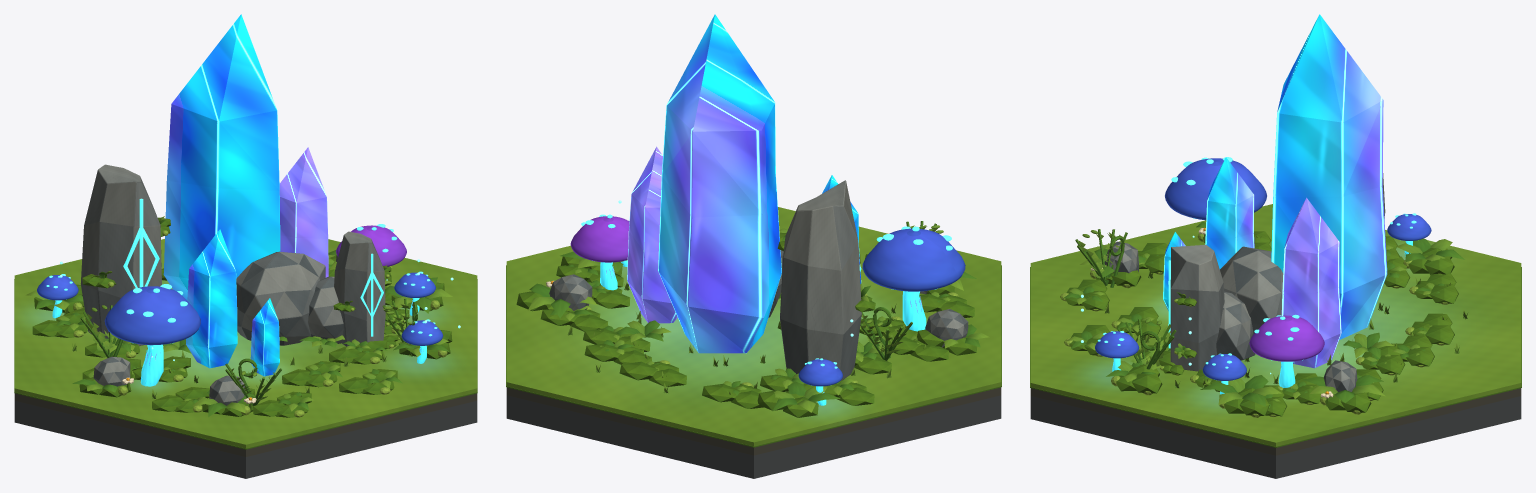
The model's file is hex_crystal_grove.glb.
The picture shows the model from 3 angles, left to right: view 1: azimuth 30°, elevation 25°; view 2: azimuth 150°, elevation 25°; view 3: azimuth 270°, elevation 25°; orthographic projection. The views are drawn at different scales.
Visible parts, largest first — view 1: Standard hex meadow top.001, Faceted magical crystal.001, Standard hex stone foundation.001, Weathered shrine monolith.001, Angular mossy forest boulder.001, Faceted magical crystal.002, Faceted magical crystal.004, Weathered shrine monolith.002, Broad faceted mushroom cap.001, Standard hex earth layer.001, Faceted magical crystal.005, Angular mossy forest boulder.002 (+8 smaller); view 2: Standard hex meadow top.001, Faceted magical crystal.001, Weathered shrine monolith.001, Standard hex stone foundation.001, Faceted magical crystal.004, Broad faceted mushroom cap.001, Standard hex earth layer.001, Broad faceted mushroom cap.003, Angular mossy forest boulder.004, Angular mossy forest boulder.003, Broad faceted mushroom cap.005, Curving luminous mushroom stem.001 (+3 smaller); view 3: Standard hex meadow top.001, Faceted magical crystal.001, Standard hex stone foundation.001, Faceted magical crystal.004, Weathered shrine monolith.002, Standard hex earth layer.001, Faceted magical crystal.002, Angular mossy forest boulder.001, Broad faceted mushroom cap.001, Broad faceted mushroom cap.003, Angular mossy forest boulder.002, Broad faceted mushroom cap.005 (+5 smaller).
Boxes of the visible parts, left/top/right/bottom form: Standard hex meadow top.001: left=14, top=239, right=477, bottom=448; Faceted magical crystal.001: left=163, top=14, right=280, bottom=300; Standard hex stone foundation.001: left=14, top=401, right=477, bottom=478; Weathered shrine monolith.001: left=80, top=164, right=161, bottom=345; Angular mossy forest boulder.001: left=236, top=251, right=325, bottom=345; Faceted magical crystal.002: left=186, top=229, right=237, bottom=368; Faceted magical crystal.004: left=279, top=147, right=328, bottom=277; Weathered shrine monolith.002: left=334, top=231, right=385, bottom=346; Broad faceted mushroom cap.001: left=104, top=286, right=200, bottom=345; Standard hex earth layer.001: left=14, top=393, right=477, bottom=456; Faceted magical crystal.005: left=250, top=298, right=279, bottom=376; Angular mossy forest boulder.002: left=308, top=276, right=343, bottom=343; Standard hex meadow top.001: left=506, top=207, right=1001, bottom=446; Faceted magical crystal.001: left=658, top=14, right=781, bottom=353; Weathered shrine monolith.001: left=780, top=180, right=861, bottom=380; Standard hex stone foundation.001: left=506, top=395, right=1001, bottom=478; Faceted magical crystal.004: left=627, top=146, right=677, bottom=323; Broad faceted mushroom cap.001: left=862, top=228, right=965, bottom=291; Standard hex earth layer.001: left=506, top=387, right=1001, bottom=455; Broad faceted mushroom cap.003: left=570, top=216, right=629, bottom=262; Angular mossy forest boulder.004: left=549, top=274, right=592, bottom=310; Angular mossy forest boulder.003: left=925, top=309, right=968, bottom=347; Broad faceted mushroom cap.005: left=798, top=359, right=842, bottom=386; Curving luminous mushroom stem.001: left=902, top=291, right=926, bottom=331; Standard hex meadow top.001: left=1030, top=204, right=1521, bottom=446; Faceted magical crystal.001: left=1271, top=14, right=1387, bottom=339; Standard hex stone foundation.001: left=1030, top=396, right=1521, bottom=478; Faceted magical crystal.004: left=1281, top=197, right=1341, bottom=368; Weathered shrine monolith.002: left=1170, top=244, right=1224, bottom=371; Standard hex earth layer.001: left=1030, top=388, right=1521, bottom=455; Faceted magical crystal.002: left=1205, top=157, right=1254, bottom=269; Angular mossy forest boulder.001: left=1220, top=246, right=1283, bottom=333; Broad faceted mushroom cap.001: left=1165, top=158, right=1266, bottom=220; Broad faceted mushroom cap.003: left=1249, top=315, right=1324, bottom=361; Angular mossy forest boulder.002: left=1216, top=291, right=1255, bottom=360; Broad faceted mushroom cap.005: left=1387, top=214, right=1431, bottom=240.
Size of the model in its own units: 5.11 by 3.51 by 4.42.
Materials: 40 (29 with a texture image).
